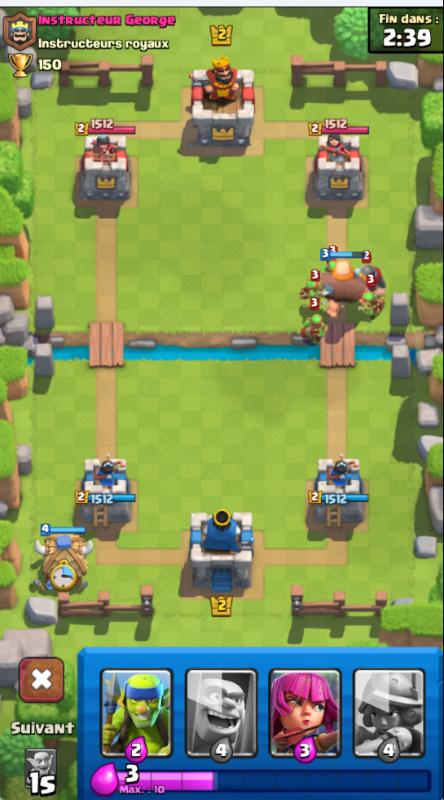chevalier: (353, 256, 389, 295)
geant: (320, 248, 371, 320)
gobelin_lances: (297, 271, 329, 307), (355, 292, 387, 322), (301, 311, 328, 346), (322, 249, 339, 273)
